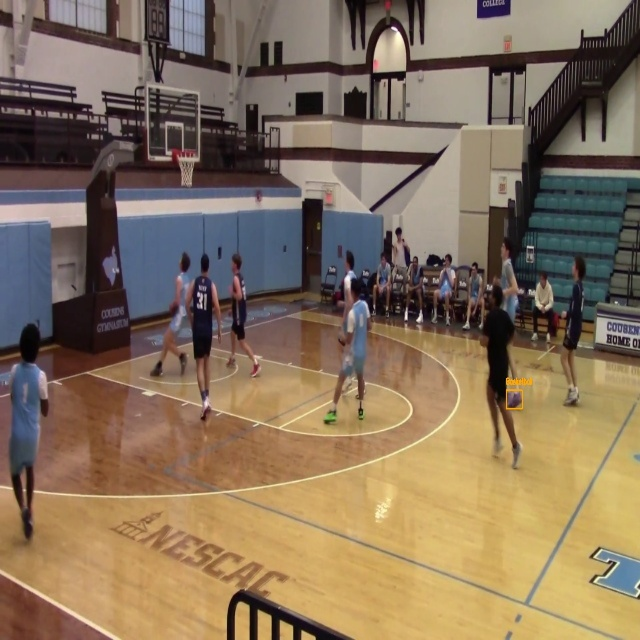Basketball: (506, 390, 522, 409)
